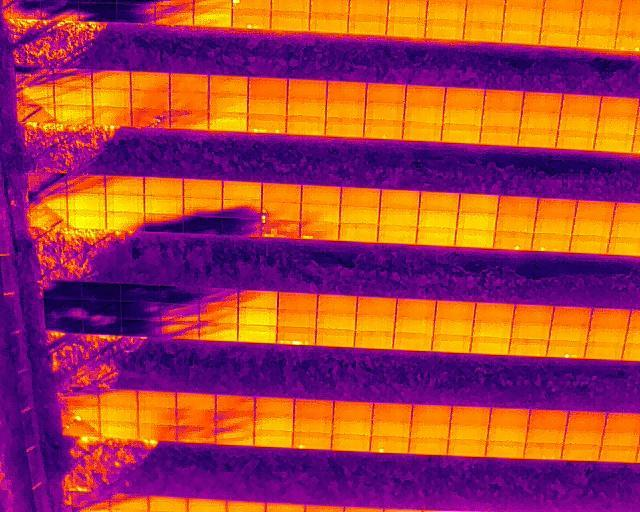Cell: (365, 119, 404, 139), (494, 232, 534, 250), (294, 432, 333, 450), (370, 436, 409, 454), (62, 420, 100, 436), (62, 405, 100, 420)
Cell-Multi: (232, 8, 271, 29), (248, 114, 287, 134), (277, 325, 316, 345), (547, 340, 587, 358), (262, 202, 301, 220), (301, 221, 340, 239), (532, 235, 573, 252), (262, 220, 300, 238), (525, 442, 563, 459)
No-Anomaly: (503, 2, 544, 24), (271, 10, 310, 32), (310, 12, 349, 34), (578, 27, 617, 49), (580, 7, 620, 28), (426, 19, 466, 40), (348, 14, 386, 36), (466, 0, 505, 21), (444, 104, 483, 125), (543, 5, 580, 27), (442, 124, 482, 144), (387, 16, 425, 37), (465, 21, 503, 42), (405, 103, 444, 123), (325, 117, 364, 137), (403, 121, 442, 141), (193, 6, 232, 26), (302, 186, 341, 206), (209, 75, 248, 95), (131, 89, 170, 109), (575, 201, 616, 220), (455, 230, 496, 249), (542, 26, 579, 47), (458, 194, 501, 212), (326, 98, 366, 117), (209, 112, 247, 132), (287, 116, 325, 136), (481, 126, 519, 146), (519, 128, 557, 148), (596, 133, 634, 153), (222, 182, 262, 201), (248, 77, 288, 96), (498, 197, 540, 215), (248, 96, 287, 115), (600, 97, 639, 116), (287, 97, 326, 116), (366, 101, 405, 120), (93, 106, 132, 125), (483, 107, 522, 126), (521, 110, 560, 129), (68, 210, 107, 229), (279, 292, 318, 311), (278, 309, 317, 328), (355, 331, 394, 350), (412, 405, 451, 424), (427, 0, 466, 19), (379, 190, 420, 208), (419, 194, 460, 212), (457, 212, 498, 230), (569, 236, 610, 254), (495, 216, 538, 233), (560, 111, 598, 130), (558, 131, 596, 150), (552, 306, 590, 325), (503, 24, 541, 43), (183, 180, 223, 198), (341, 189, 381, 207), (378, 226, 418, 244), (393, 333, 433, 351), (169, 74, 209, 92), (406, 85, 446, 103), (484, 89, 524, 107), (533, 218, 575, 235), (587, 341, 624, 360), (106, 176, 145, 194), (144, 179, 183, 197), (106, 195, 145, 213), (144, 197, 183, 215), (536, 200, 575, 218), (340, 225, 379, 243), (436, 300, 475, 318), (513, 304, 552, 322), (590, 308, 629, 326), (356, 313, 395, 331), (238, 325, 277, 343), (316, 329, 355, 347), (471, 337, 510, 355), (510, 339, 549, 357), (99, 390, 138, 408), (137, 391, 176, 409), (295, 400, 334, 418), (490, 408, 529, 426), (332, 434, 371, 452), (409, 438, 448, 456), (131, 71, 170, 89), (288, 79, 327, 97), (366, 83, 405, 101), (416, 229, 457, 246), (171, 92, 209, 110), (475, 303, 513, 321), (512, 322, 550, 340), (433, 335, 471, 353), (334, 402, 372, 420), (100, 406, 138, 424), (530, 410, 568, 428), (372, 420, 410, 438), (411, 423, 449, 441), (255, 430, 293, 448), (563, 443, 601, 461), (340, 207, 380, 224), (317, 295, 357, 312), (357, 297, 397, 314), (238, 308, 278, 325), (176, 393, 216, 410), (486, 441, 526, 458), (327, 81, 367, 98), (523, 93, 562, 110), (209, 95, 248, 112), (262, 184, 301, 201), (301, 204, 340, 221), (379, 209, 418, 226), (397, 299, 436, 316), (316, 312, 355, 329), (396, 316, 435, 333), (550, 324, 589, 341), (588, 326, 627, 343), (255, 397, 294, 414), (137, 409, 176, 426), (567, 412, 606, 429), (488, 425, 527, 442), (448, 440, 487, 457), (600, 446, 639, 463), (149, 494, 188, 511), (388, 0, 427, 17), (93, 72, 132, 89), (445, 87, 484, 104), (418, 212, 459, 228), (571, 220, 612, 236), (562, 94, 600, 111), (598, 115, 636, 132), (373, 403, 411, 420), (255, 415, 293, 432), (450, 424, 488, 441), (527, 427, 565, 444), (93, 89, 131, 106), (67, 194, 107, 210), (473, 322, 512, 338), (332, 419, 371, 435), (606, 413, 640, 431), (434, 319, 472, 335), (452, 407, 490, 423), (294, 417, 332, 433), (565, 428, 603, 444), (101, 422, 138, 438), (603, 430, 640, 446), (349, 0, 388, 15)
Shadowing: (55, 104, 94, 125), (170, 110, 209, 131), (117, 4, 156, 25), (132, 108, 171, 128), (156, 5, 193, 26), (16, 68, 54, 88), (183, 198, 222, 217), (222, 200, 261, 219), (44, 281, 83, 300), (121, 284, 162, 302), (30, 211, 68, 230), (162, 321, 200, 340), (200, 323, 238, 342), (222, 219, 262, 237), (122, 302, 162, 320), (17, 104, 54, 123), (79, 3, 116, 22), (201, 287, 238, 306), (39, 2, 78, 20), (29, 176, 68, 194), (44, 300, 83, 318), (216, 412, 255, 430), (162, 303, 200, 321), (72, 494, 110, 512), (55, 87, 93, 105), (238, 291, 278, 308), (176, 410, 216, 427), (83, 282, 120, 300), (67, 176, 106, 193), (144, 215, 183, 232), (183, 217, 222, 234), (161, 286, 200, 303), (216, 395, 255, 412), (177, 426, 216, 443), (215, 429, 254, 446), (110, 495, 149, 512), (29, 193, 67, 210), (106, 212, 144, 229), (84, 300, 122, 317), (200, 306, 238, 323), (83, 317, 121, 334), (55, 69, 93, 86), (17, 87, 55, 104), (122, 320, 162, 336), (3, 1, 39, 18), (61, 390, 99, 406), (139, 425, 177, 441), (45, 317, 83, 331)
